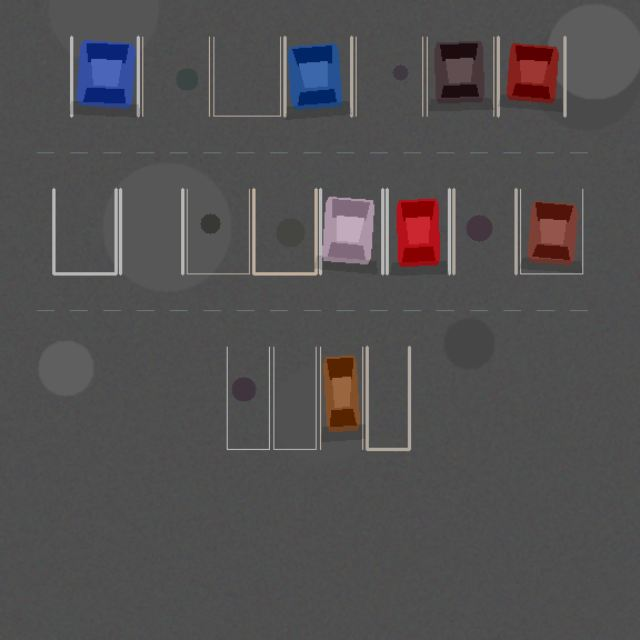space-empty: (142, 37, 209, 116), (213, 37, 280, 116), (53, 189, 116, 273), (253, 189, 316, 273), (453, 189, 516, 273), (356, 37, 422, 116), (120, 189, 182, 273), (187, 189, 249, 273), (273, 347, 316, 449), (227, 347, 269, 449), (367, 347, 409, 449)
space-occupied: (71, 37, 138, 116), (284, 37, 351, 116), (427, 37, 493, 116), (498, 37, 564, 116), (320, 189, 382, 273), (387, 189, 449, 273), (520, 189, 582, 273), (320, 347, 362, 449)
